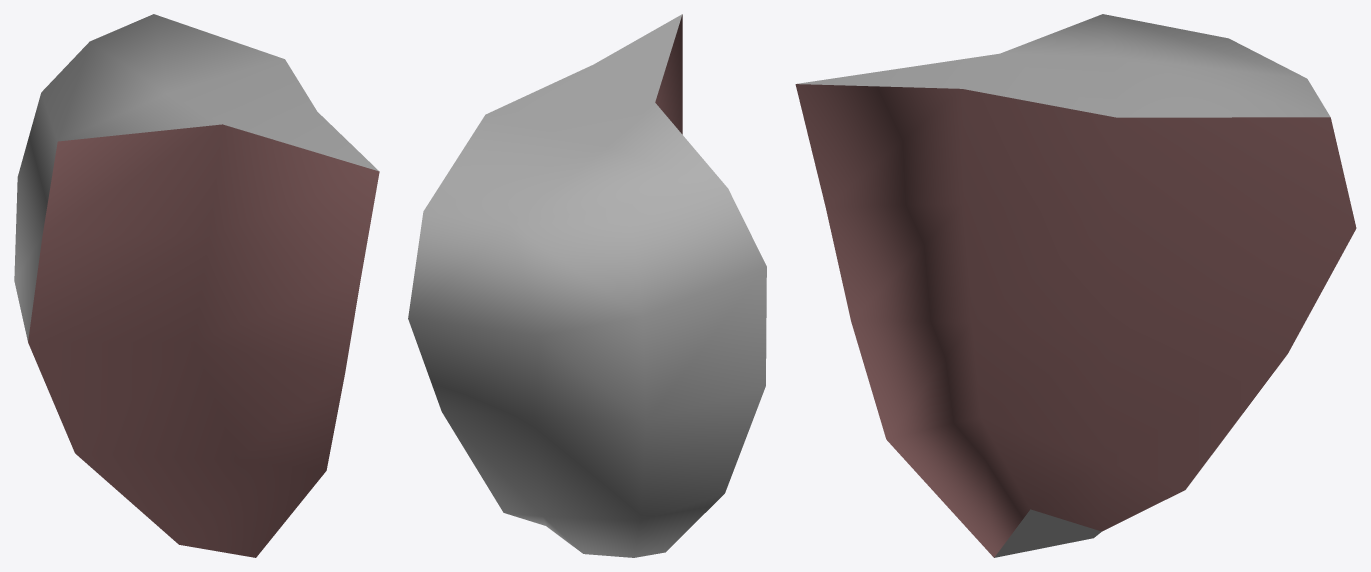
The picture shows the model from 3 angles, left to right: view 1: azimuth 30°, elevation 25°; view 2: azimuth 150°, elevation 25°; view 3: azimuth 270°, elevation 25°; orthographic projection. The views are drawn at different scales.
Visible parts, largest first — view 1: p3_3; view 2: p3_3; view 3: p3_3.
Part boxes in pixels (bbox=[...]): p3_3: bbox=[14, 14, 379, 557]; p3_3: bbox=[408, 14, 766, 557]; p3_3: bbox=[795, 14, 1356, 557].
Size of the model in its own units: 3.86 by 6.14 by 6.32.
